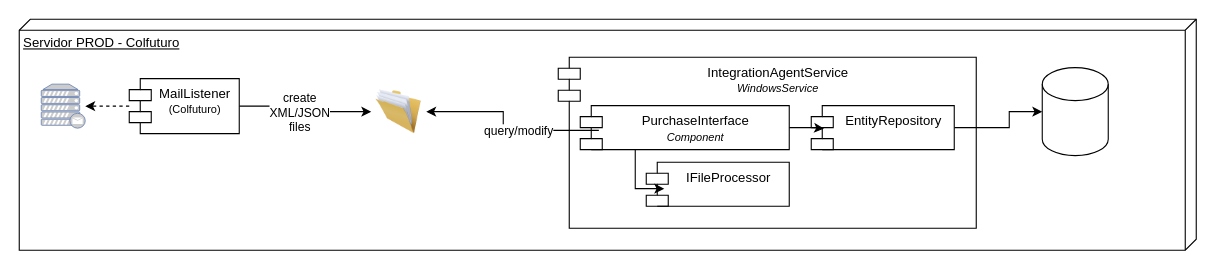
The diagram is 1216 pixels wide and 271 high, and some of its shapes have lost their labels. The shapes that lost their labels are listed below. From the top down, each one's box as (x1, y1, x2, y2) in pixels, then its label:
(40, 82, 86, 129): Mailbox
(371, 89, 426, 133): Filesystem Ruta compartida
(1041, 67, 1108, 156): Mvtrade Trade Colfuturo DB
